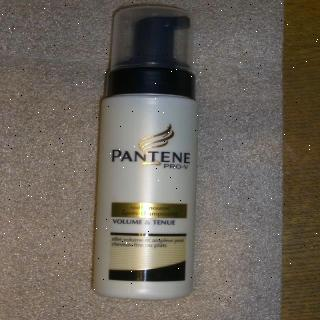Plastic-bottle: (89, 3, 208, 306)
